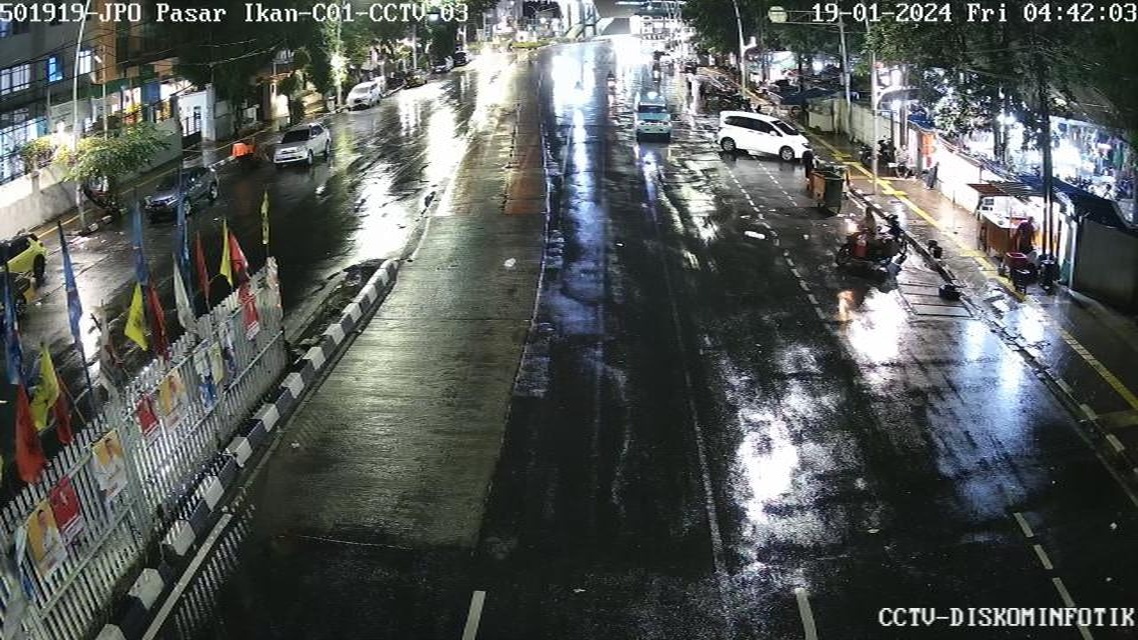Gerobak: (795, 96, 859, 136)
